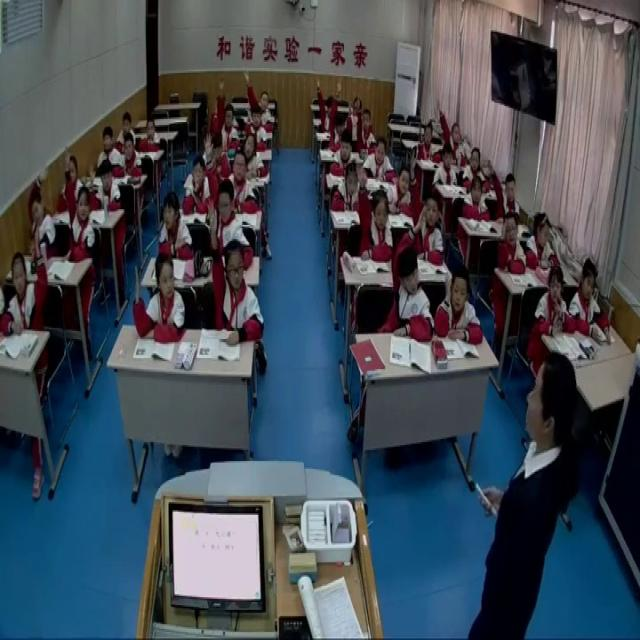focused: (569, 254, 613, 348), (531, 262, 572, 341), (157, 191, 196, 259), (224, 149, 259, 216), (522, 211, 559, 274), (329, 163, 363, 216), (184, 154, 212, 214), (58, 152, 86, 207), (327, 135, 359, 180), (387, 163, 414, 215), (462, 174, 491, 222), (462, 144, 491, 191), (366, 138, 396, 183), (114, 129, 141, 176), (434, 143, 460, 191), (244, 101, 271, 146), (244, 130, 269, 178), (97, 125, 121, 174), (344, 88, 364, 138), (116, 105, 136, 148), (141, 115, 163, 152)
raising_hand: (205, 202, 269, 352), (202, 132, 254, 266), (0, 223, 51, 343), (390, 207, 434, 343), (134, 248, 188, 348), (60, 145, 98, 265), (432, 256, 482, 346), (408, 148, 444, 268), (355, 161, 394, 260), (27, 167, 61, 255), (488, 156, 522, 227), (242, 66, 278, 130), (86, 152, 124, 212), (435, 99, 468, 165), (215, 73, 240, 154), (497, 209, 526, 276), (328, 78, 349, 158), (313, 76, 337, 137), (414, 118, 438, 165), (356, 101, 377, 152)
